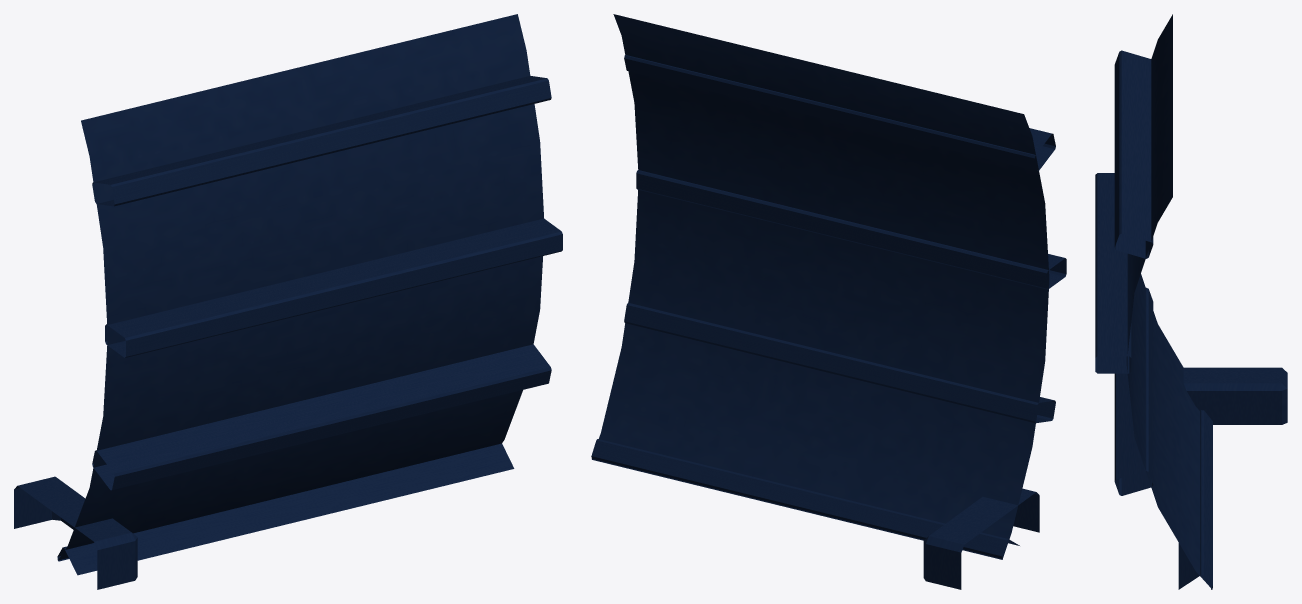
The model's file is cell_45.obj.
3 views of the same model, side by side, from view 1: azimuth 30°, elevation 25°; view 2: azimuth 150°, elevation 25°; view 3: azimuth 270°, elevation 25° (orthographic). The views are drawn at different scales.
Parts seen in each view (by area): view 1: cell_45; view 2: cell_45; view 3: cell_45.
Part boxes in pixels (bbox=[...]): cell_45: bbox=[14, 14, 562, 589]; cell_45: bbox=[591, 14, 1066, 589]; cell_45: bbox=[1095, 14, 1287, 589].
Bounding box in the file's own units: 1 × 1 × 0.4433.
